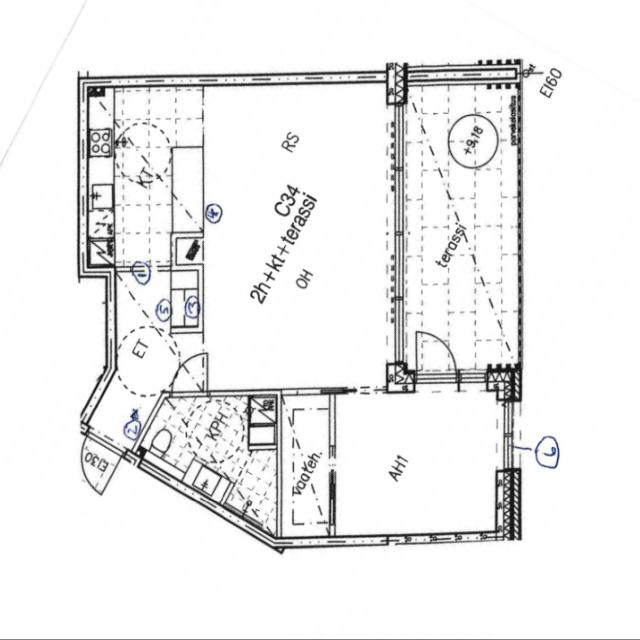door: (67, 427, 126, 493), (416, 331, 456, 383), (171, 352, 207, 396)
